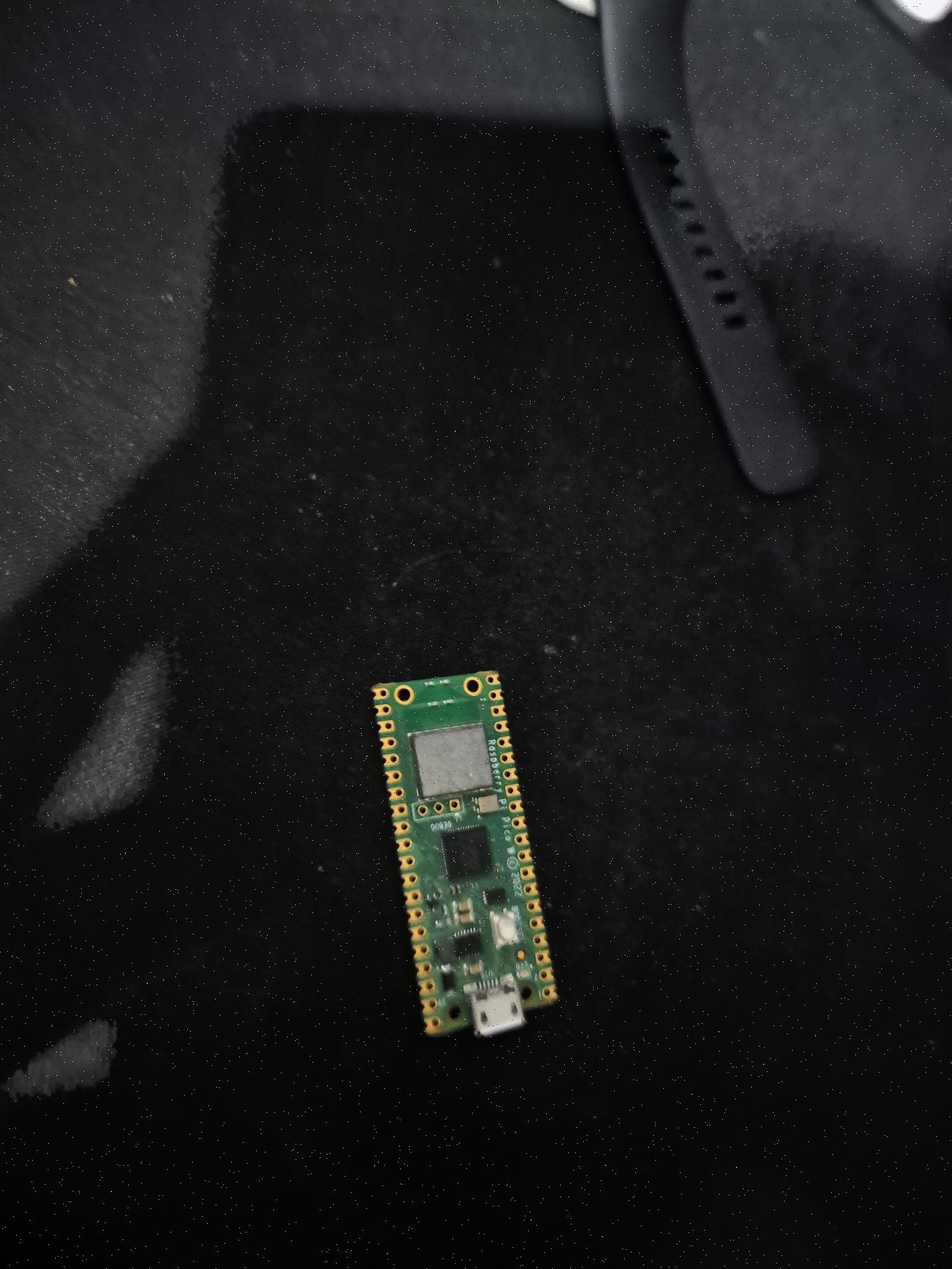raspberry-pi-pico-w: (371, 671, 559, 1037)
